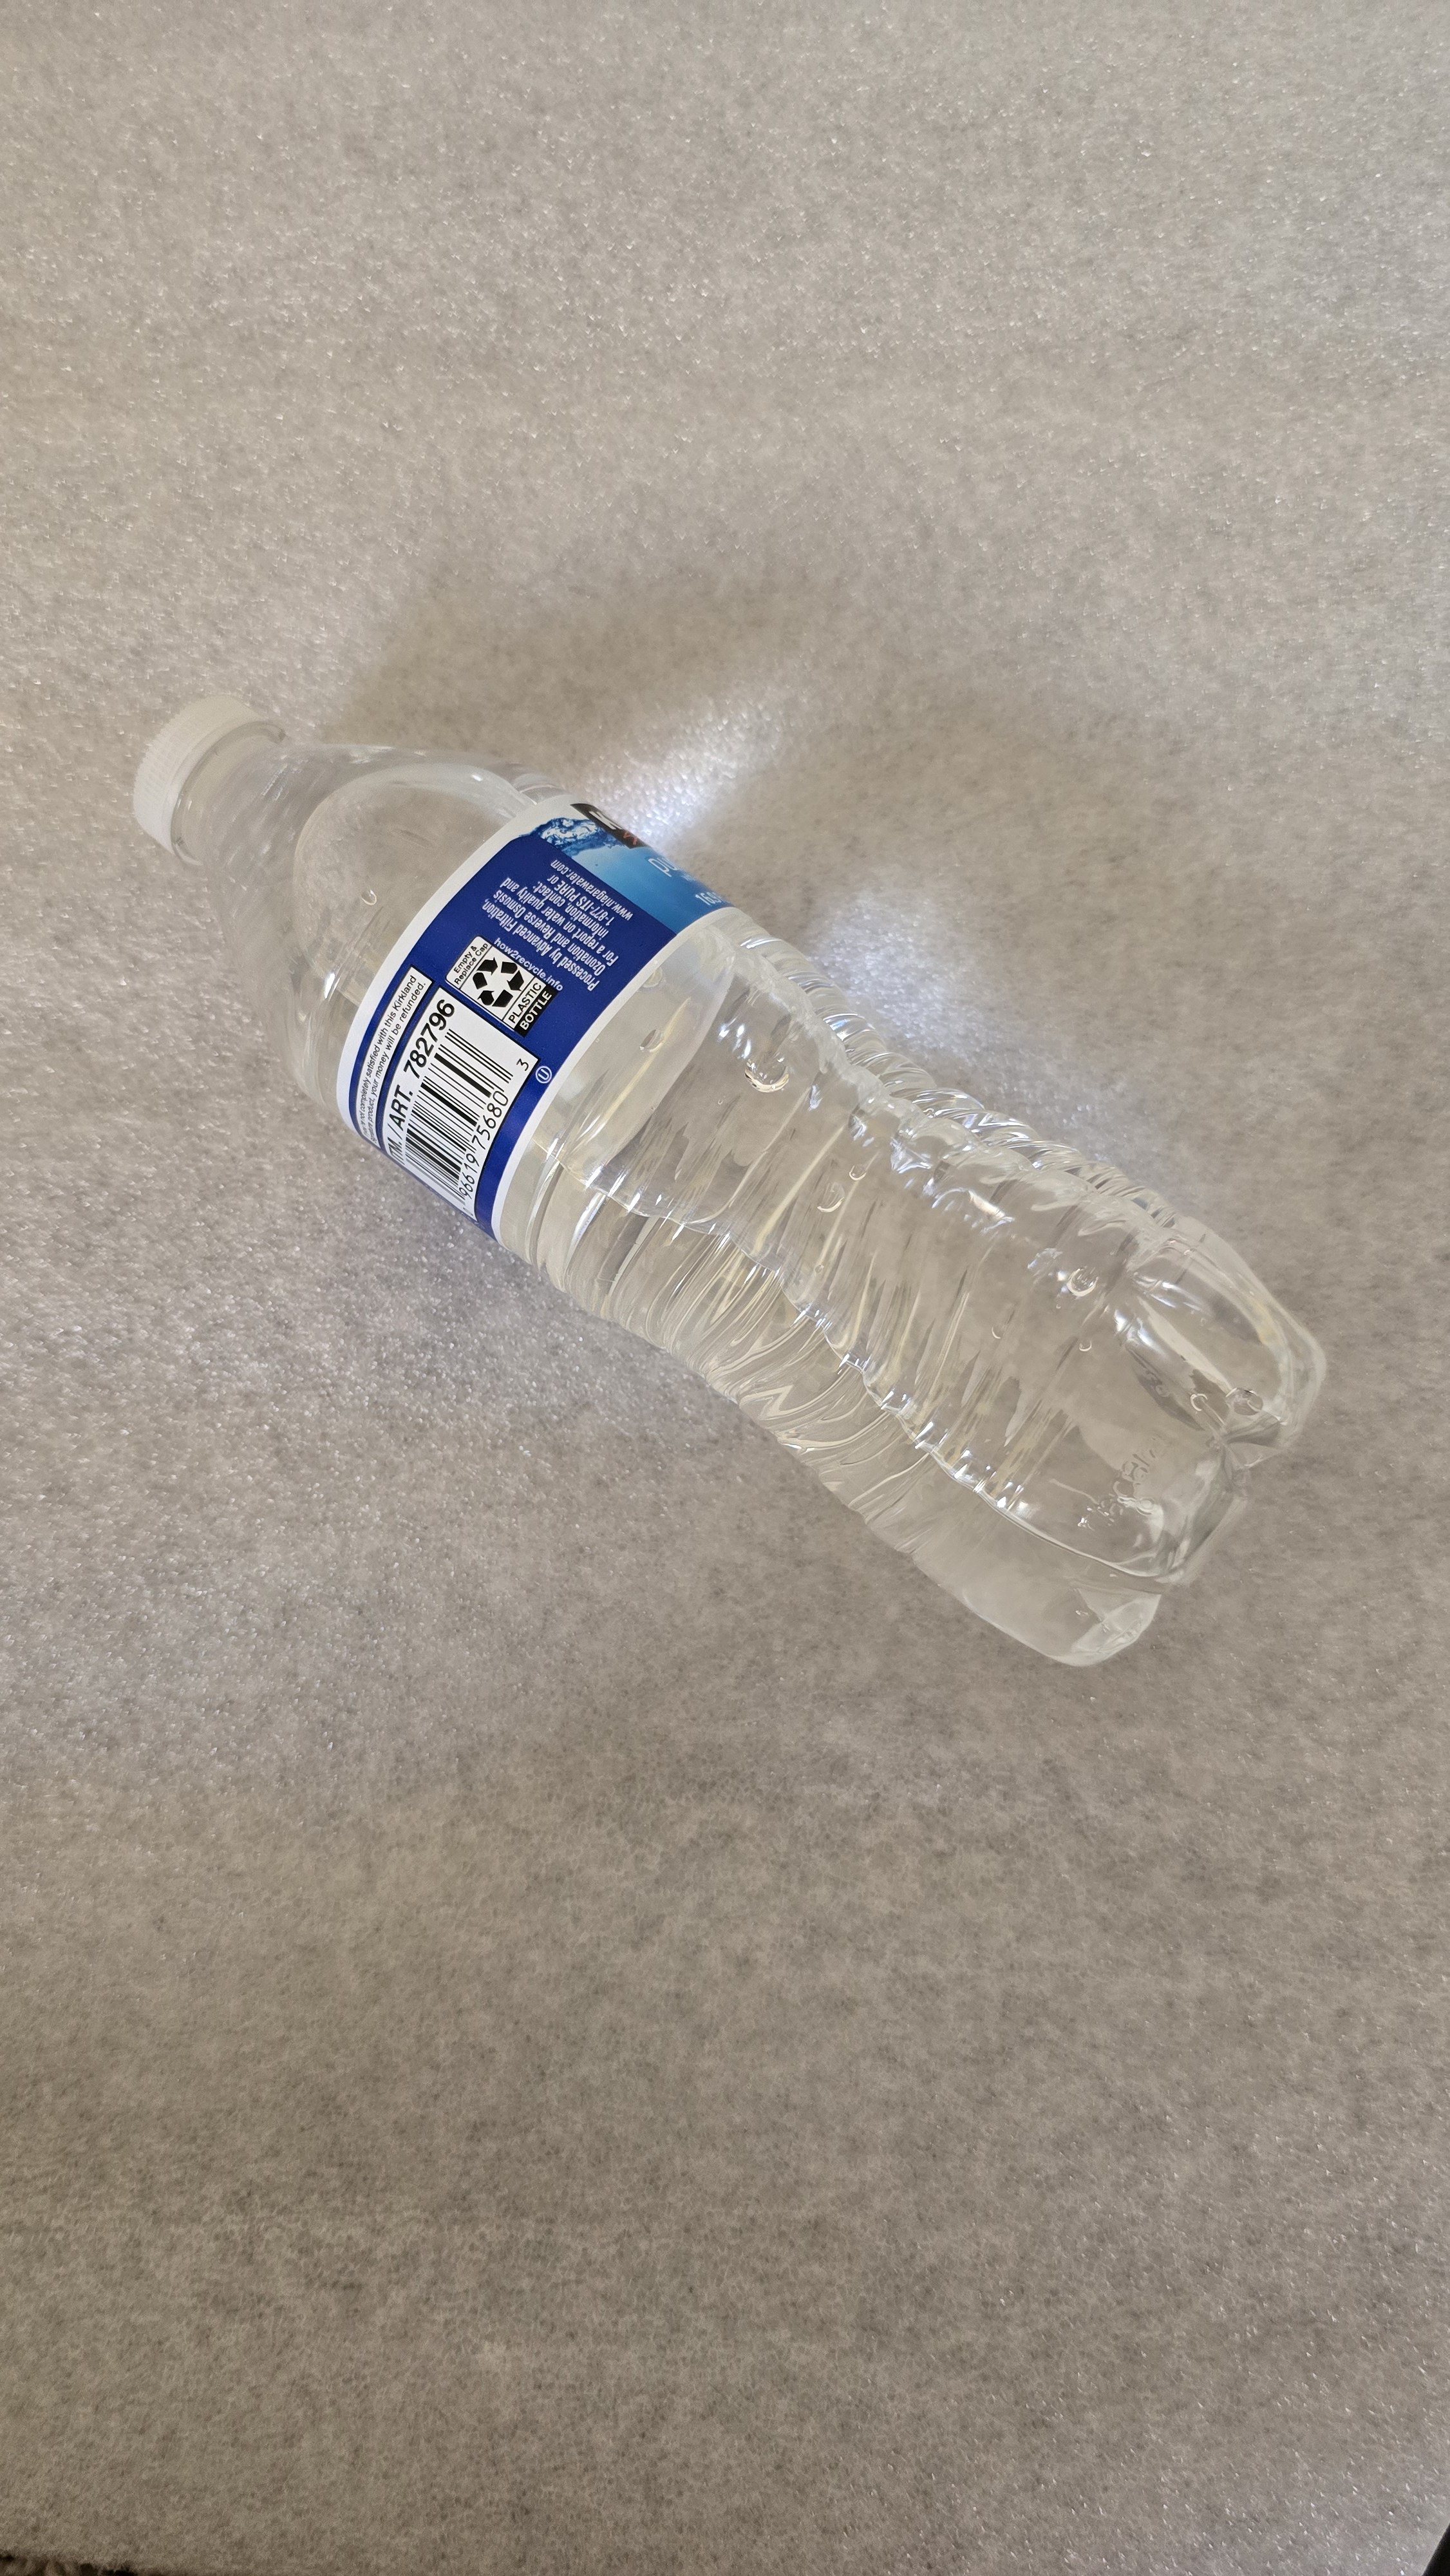bottle: (71, 607, 1365, 1736)
